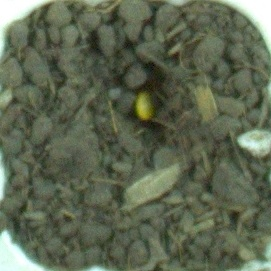pepper seed: (55, 27, 212, 150)
